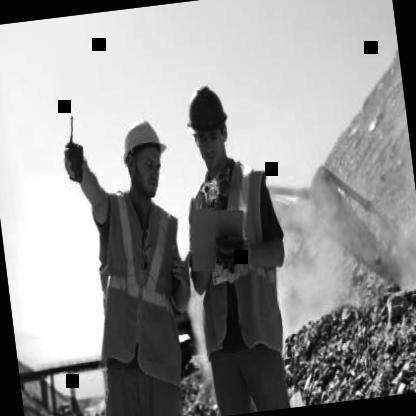helmet: (112, 106, 177, 206), (176, 74, 236, 179)
